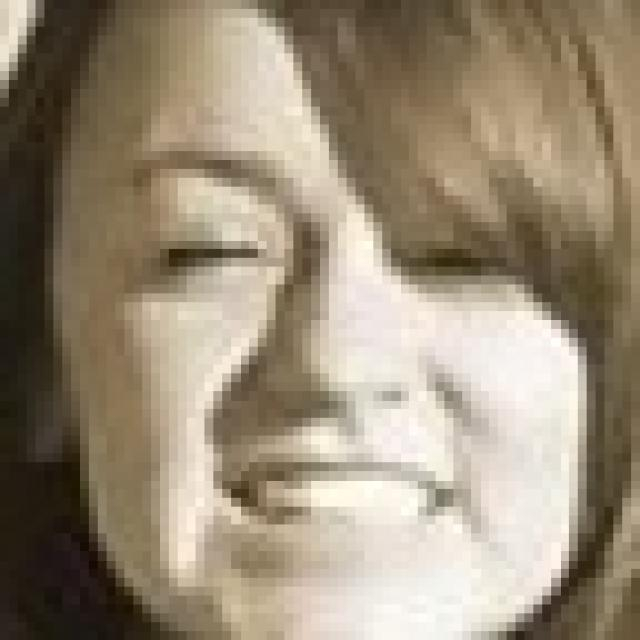Eyeclosed: (158, 225, 259, 275), (394, 242, 487, 281)
